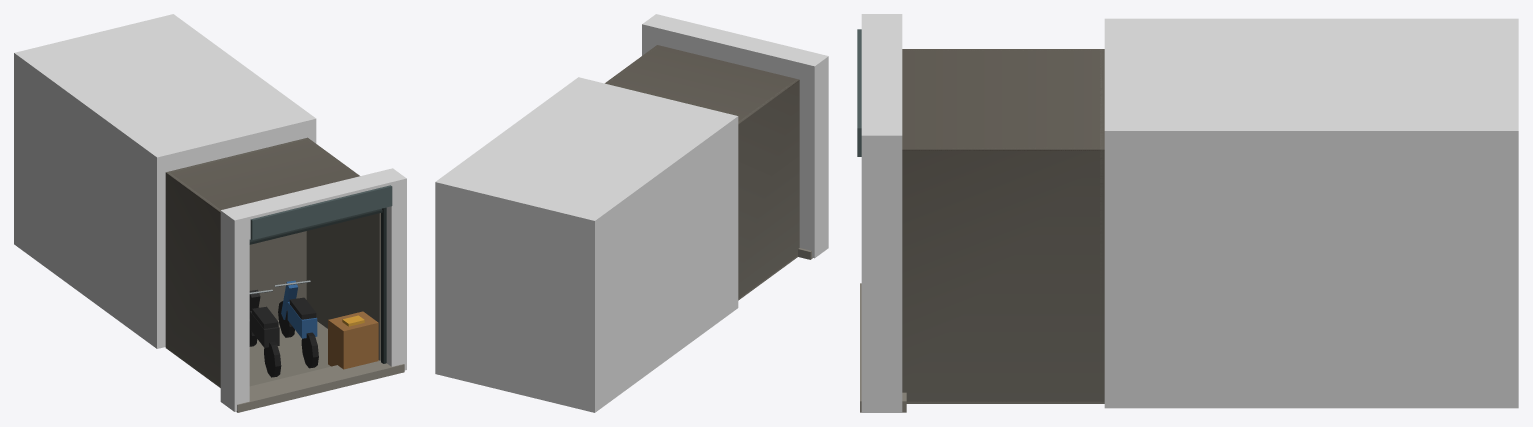
Rendered from tret_gui_xe_32.glb.
The picture shows the model from 3 angles, left to right: view 1: azimuth 30°, elevation 25°; view 2: azimuth 150°, elevation 25°; view 3: azimuth 270°, elevation 25°; orthographic projection. The views are drawn at different scales.
Parts seen in each view (by area): view 1: tret_gui_xe_32; view 2: tret_gui_xe_32; view 3: tret_gui_xe_32.
Boxes of the visible parts, x1=… form: tret_gui_xe_32: x1=14, y1=14, x2=406, y2=412; tret_gui_xe_32: x1=435, y1=14, x2=828, y2=412; tret_gui_xe_32: x1=857, y1=14, x2=1518, y2=412.
Size of the model in its own units: 3.2 by 3.42 by 7.35.
